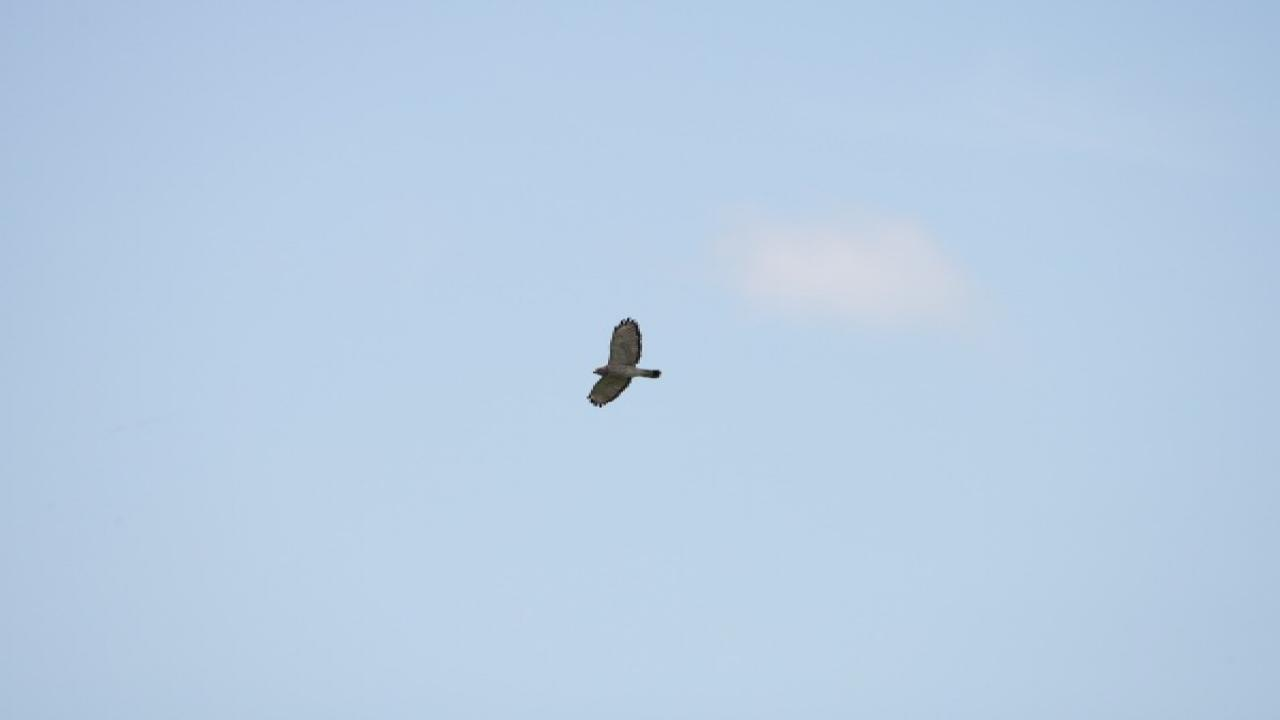Bird: (568, 312, 675, 412)
